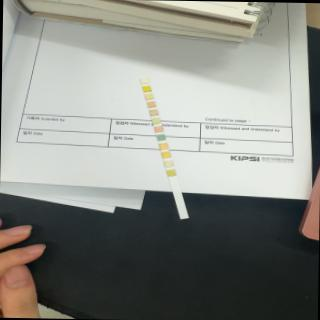mark: (164, 160, 173, 167), (147, 101, 155, 108), (167, 170, 175, 176), (162, 151, 170, 157), (159, 143, 167, 149), (156, 134, 164, 140), (154, 126, 162, 132), (150, 110, 158, 116), (144, 94, 152, 100), (142, 85, 150, 91), (140, 78, 148, 84), (152, 118, 159, 124)
